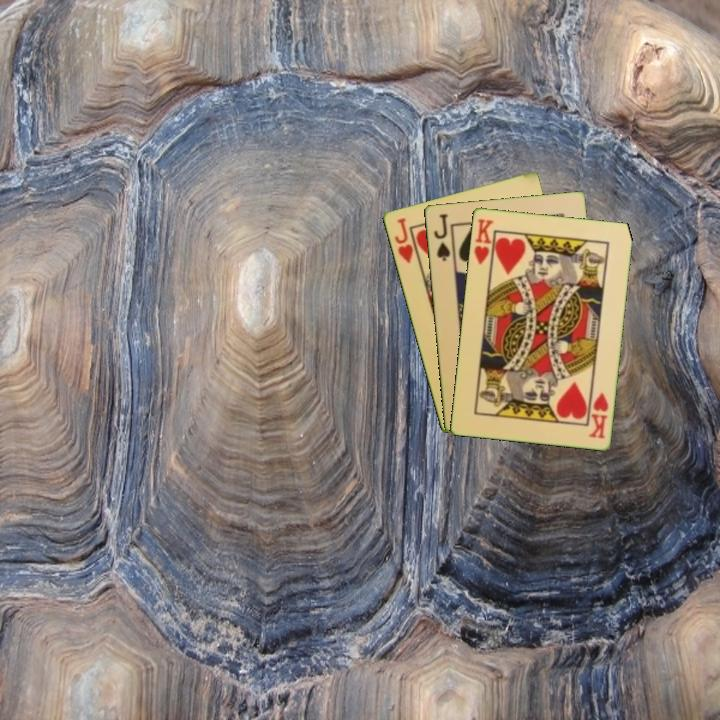Jh: (391, 214, 422, 267)
Js: (430, 210, 453, 263)
Kh: (470, 215, 497, 271), (585, 388, 611, 441)
